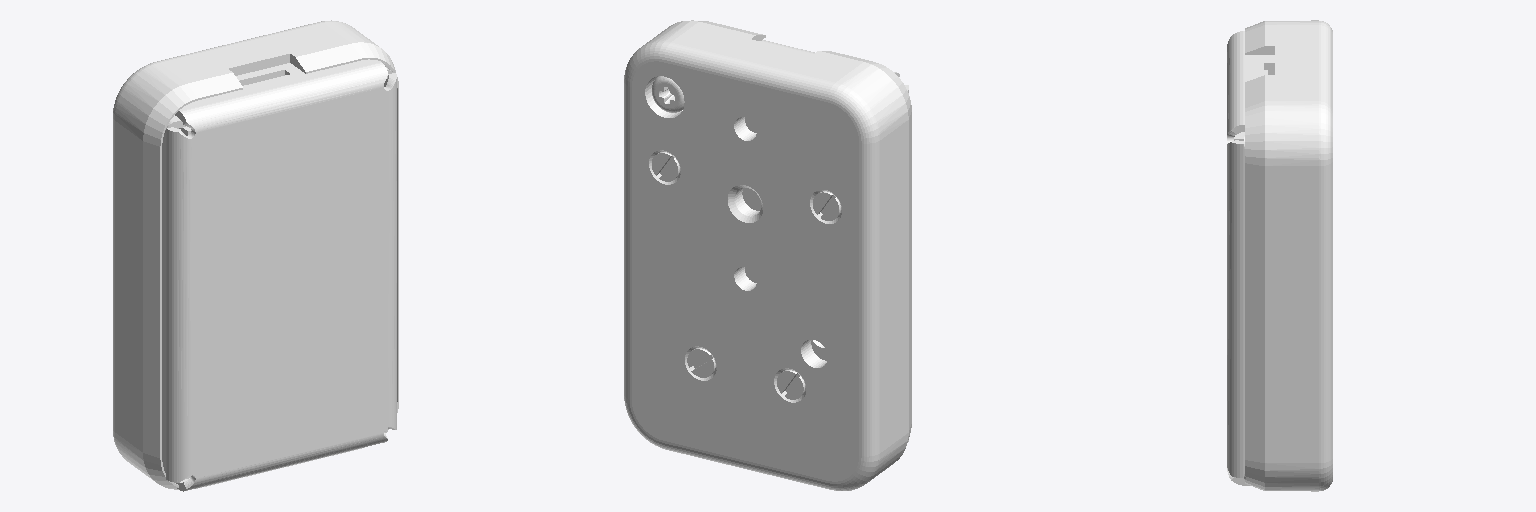
robot.urdf — fingerTip:
<?xml version="1.0" ?>
<robot name="fingerTip">
    <link concave="yes" name="baseLink">

        <inertial>
            <origin rpy="0 0 0" xyz="0 0 0"/>
            <mass value=".1"/>
            <inertia ixx="1" ixy="0" ixz="0" iyy="1" iyz="0" izz="1"/>
        </inertial>

        <visual>
            <origin rpy="0 0 0" xyz="0 0 0"/>
            <geometry>
                <mesh filename="resources/fingerTip.STL" scale="1 1 1"/>
            </geometry>
            <material name="white">
                <color rgba="1 1 1 1"/>
            </material>
        </visual>

        <collision concave="yes">
            <origin rpy="0 0 0" xyz="0 0 0"/>
            <geometry>
                <mesh filename="resources/fingerTip.STL" scale="1 1 1"/>
            </geometry>
        </collision>

    </link>
</robot>

--- Render facts (derived) ---
Views: 3 orthographic renders of the robot side by side, from view 1: azimuth 30°, elevation 25°; view 2: azimuth 150°, elevation 25°; view 3: azimuth 270°, elevation 25°.
Model fingerTip with 1 links and 0 joints (none), rooted at baseLink, posed all joints at 0.
Links seen in each view (by area): view 1: baseLink; view 2: baseLink; view 3: baseLink.
Boxes of the visible links, x1,y1,x2,y2 form: baseLink: (113,20,398,491); baseLink: (624,20,911,490); baseLink: (1227,20,1332,491).
Size in the robot's own frame: 0.0284 by 0.0109 by 0.0434 metres.
1 mesh visuals loaded from 1 distinct referenced files (1 binary STL).